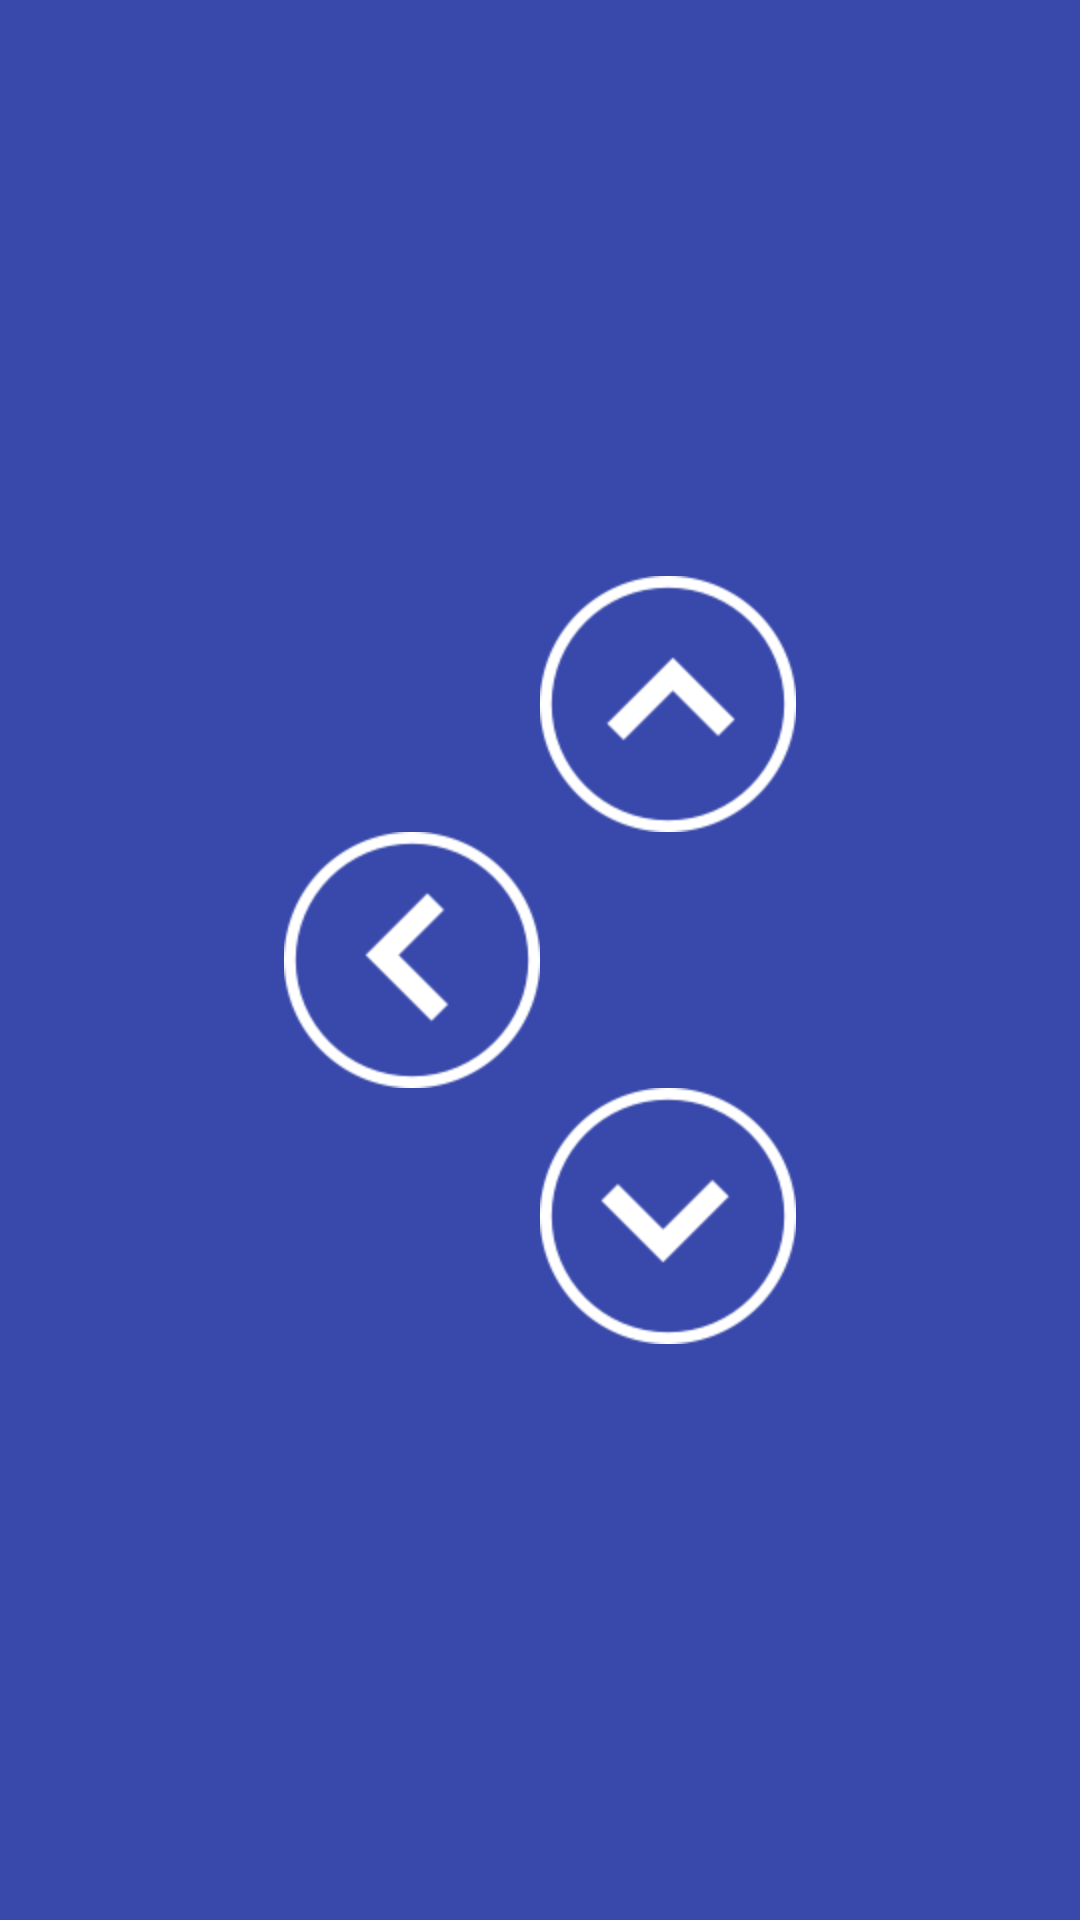

Named icons in this screenshot (1080x1920) and their bounding boxes, [x1,y1,x2,y2]:
down: [540,1088,796,1344]
left: [284,832,540,1088]
